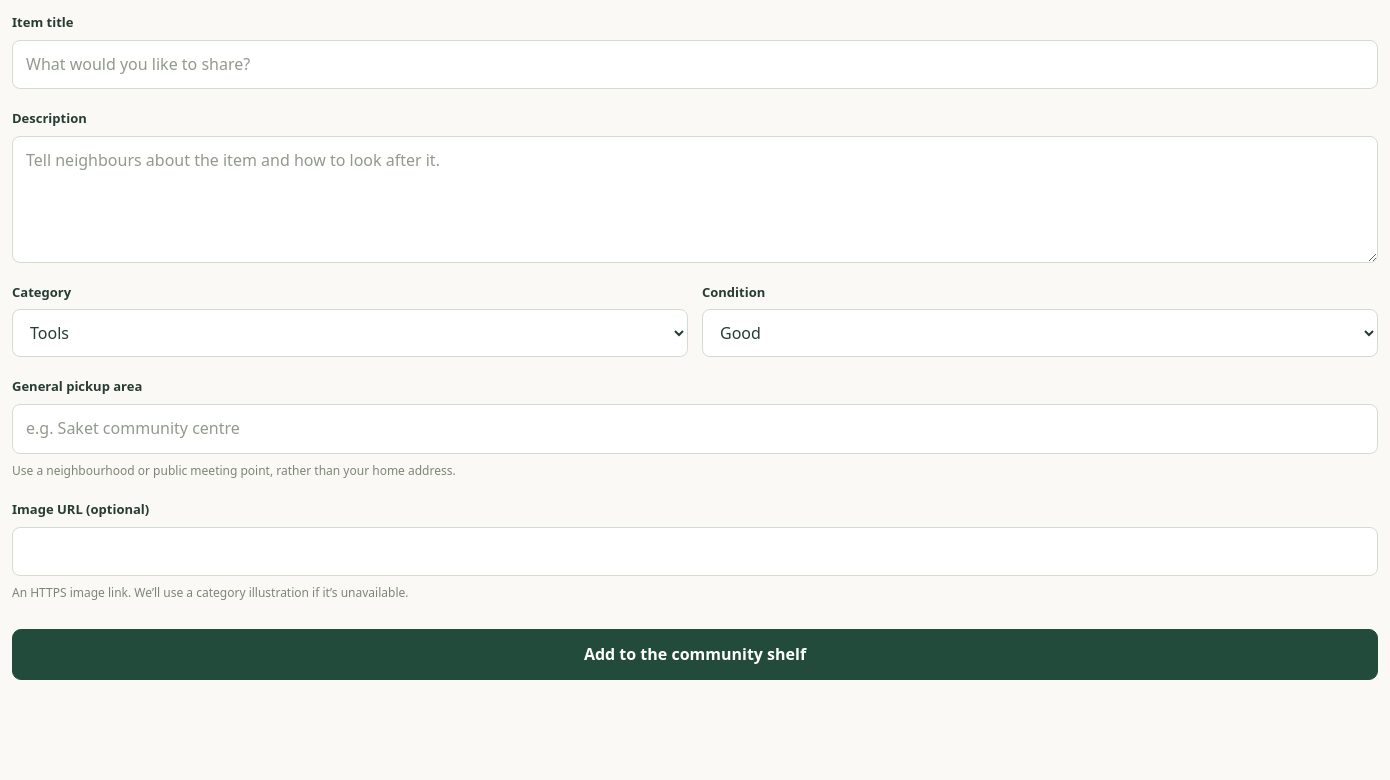
Test: item form › shows validation errors instead of submitting an empty item
The image size is (1390, 780).
Click the button "Add to the community shelf": (695, 654) [12,628,1378,680]
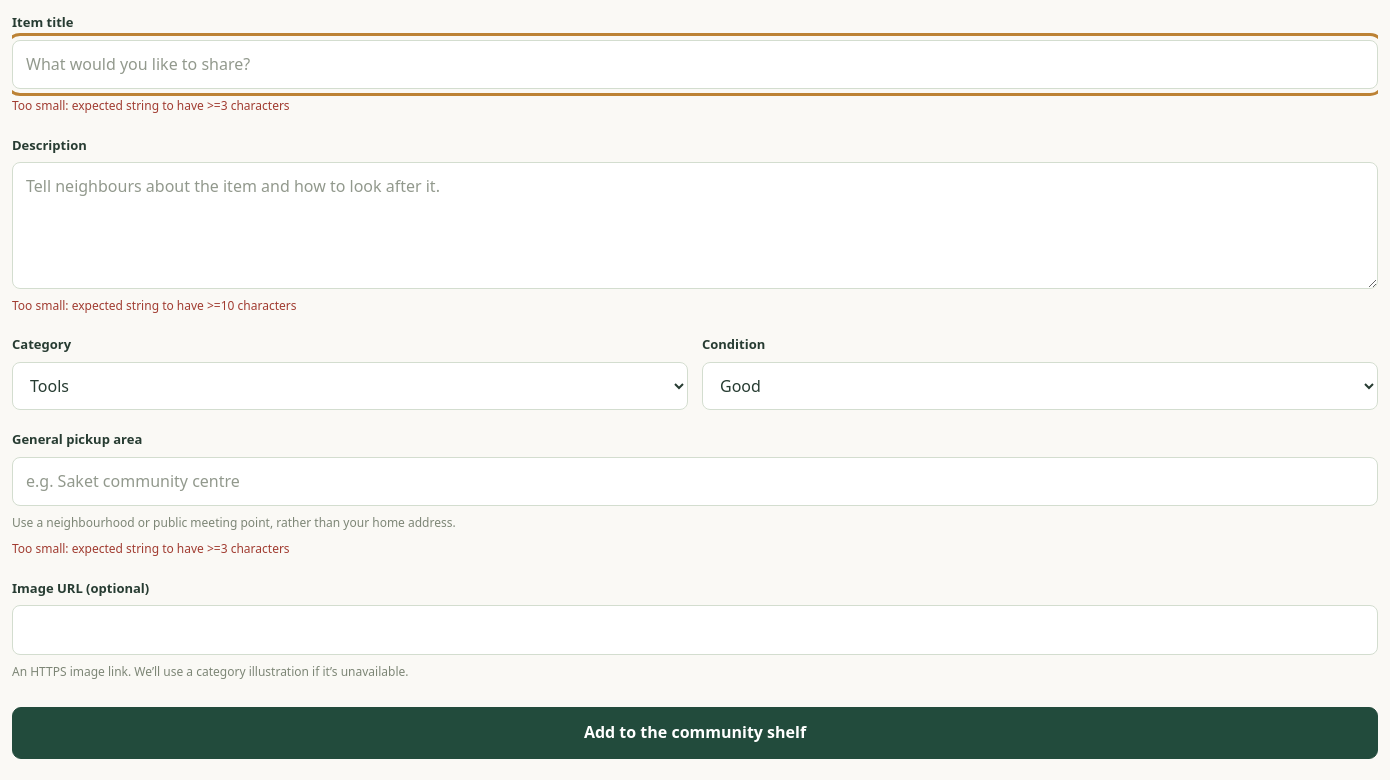
Now the number of messages is 3, box [12,97,290,114]; [12,297,296,314]; [12,540,290,557]
